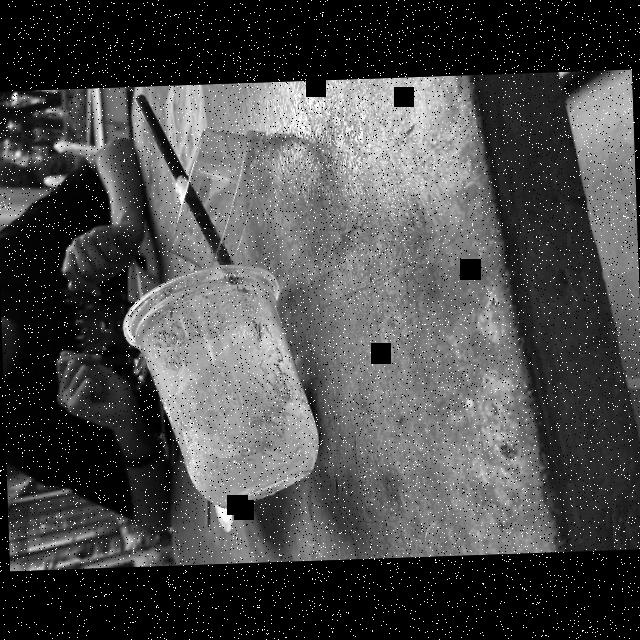plastic_cup: (121, 276, 308, 515)
plastic_cup_lid: (160, 120, 276, 273)
straw: (132, 86, 238, 274)
